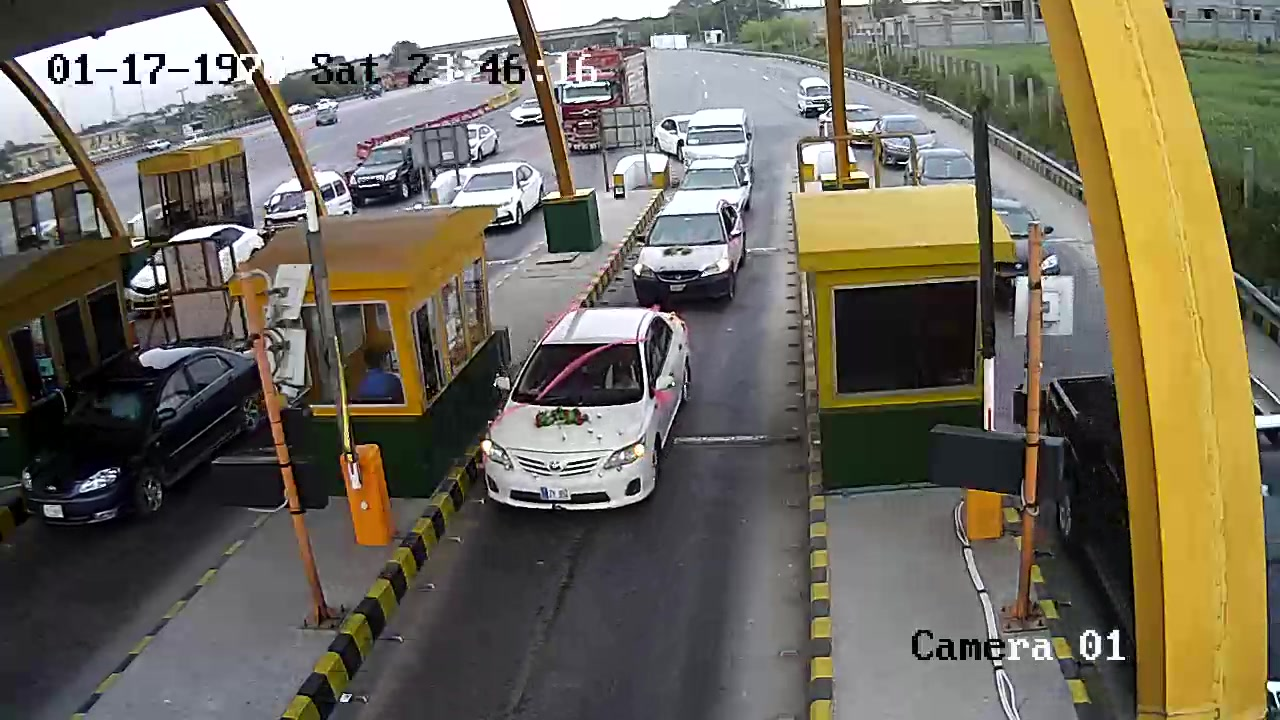F1: (475, 301, 698, 512)
